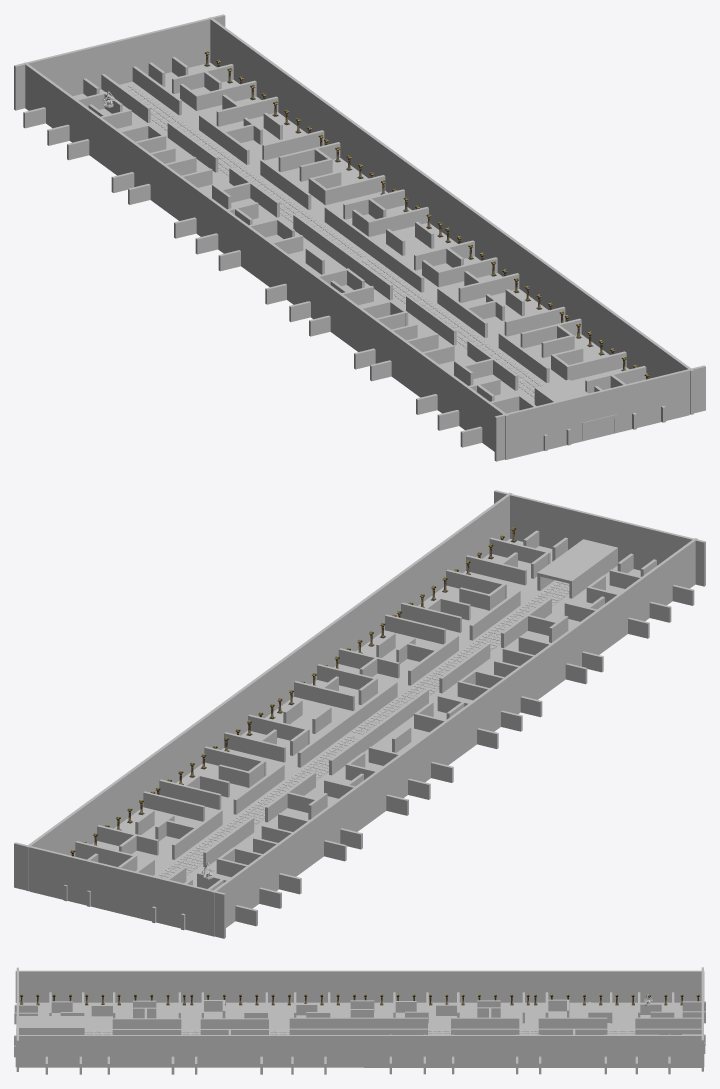
Rendered from Dungeon3Map.fbx.
The picture shows the model from 3 angles, top to bottom: view 1: azimuth 30°, elevation 25°; view 2: azimuth 150°, elevation 25°; view 3: azimuth 270°, elevation 25°; orthographic projection. The views are drawn at different scales.
Visible parts, largest first — view 1: Cube.197, Cube.117, Cube.104, Cube.112, Cube.111, Cube.131, Cube.127, planes.032, planes.031, planes.013, Cube.137, Cube.134 (+38 smaller); view 2: Cube.197, Cube.117, Cube.104, Cube.111, Cube.112, Cube.300, Cube.131, Cube.127, planes.013, planes.032, planes.033, Cube.135 (+38 smaller); view 3: Cube.117, Cube.197, Cube.104, Cube.127, Cube.131, Cube.300, Cube.125, Cube.126, Cube.123, Cube.214, Cube.215, Cube.130 (+25 smaller).
Boxes of the visible parts, x1,y1,x2,y2 form: Cube.197: (24,62,508,459); Cube.117: (209,17,693,414); Cube.104: (73,62,689,459); Cube.112: (494,365,705,461); Cube.111: (14,14,225,110); Cube.131: (324,206,424,292); Cube.127: (293,214,392,300); planes.032: (360,258,488,348); planes.031: (123,84,248,175); planes.013: (240,170,365,258); Cube.137: (323,175,385,205); Cube.134: (216,96,278,126); Cube.197: (211,538,697,936); Cube.117: (26,492,512,891); Cube.104: (30,539,640,935); Cube.111: (14,842,225,938); Cube.112: (494,490,705,586); Cube.300: (537,539,617,583); Cube.131: (297,681,397,767); Cube.127: (329,689,428,775); planes.013: (233,735,359,825); planes.032: (352,646,479,734); planes.033: (470,581,569,650); Cube.135: (143,791,204,821); Cube.117: (15,1035,704,1067); Cube.197: (15,970,704,1002); Cube.104: (19,1002,701,1067); Cube.127: (289,1017,427,1028); Cube.131: (289,1028,427,1034); Cube.300: (16,1016,84,1029); Cube.125: (538,1017,607,1028); Cube.126: (451,1017,519,1028); Cube.123: (635,1017,701,1028); Cube.214: (112,1018,181,1028); Cube.215: (200,1018,268,1028); Cube.130: (451,1028,519,1034).
Bounding box in the file's own units: 13260 × 2518 × 48447.
